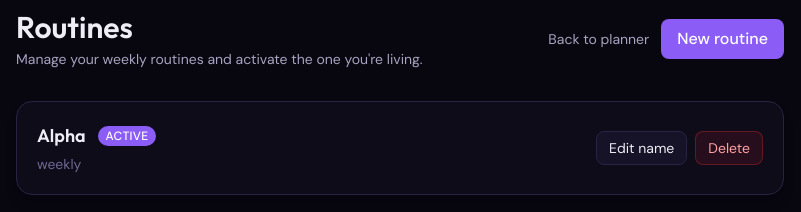
Test case: Routines page › renames a routine via the prompt
Expected: the heading "Alpha" is shown, [37, 122, 86, 150]
Click the button "Edit name": (642, 148) [596, 131, 687, 165]
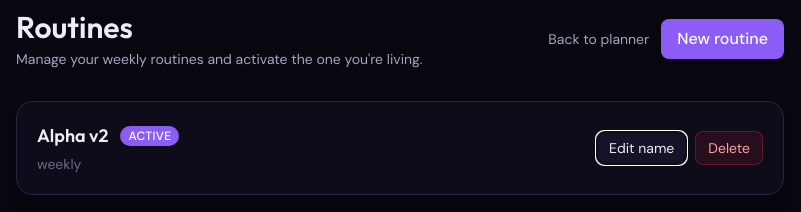
Expected: the heading "Alpha v2" is shown, [37, 122, 108, 150]
